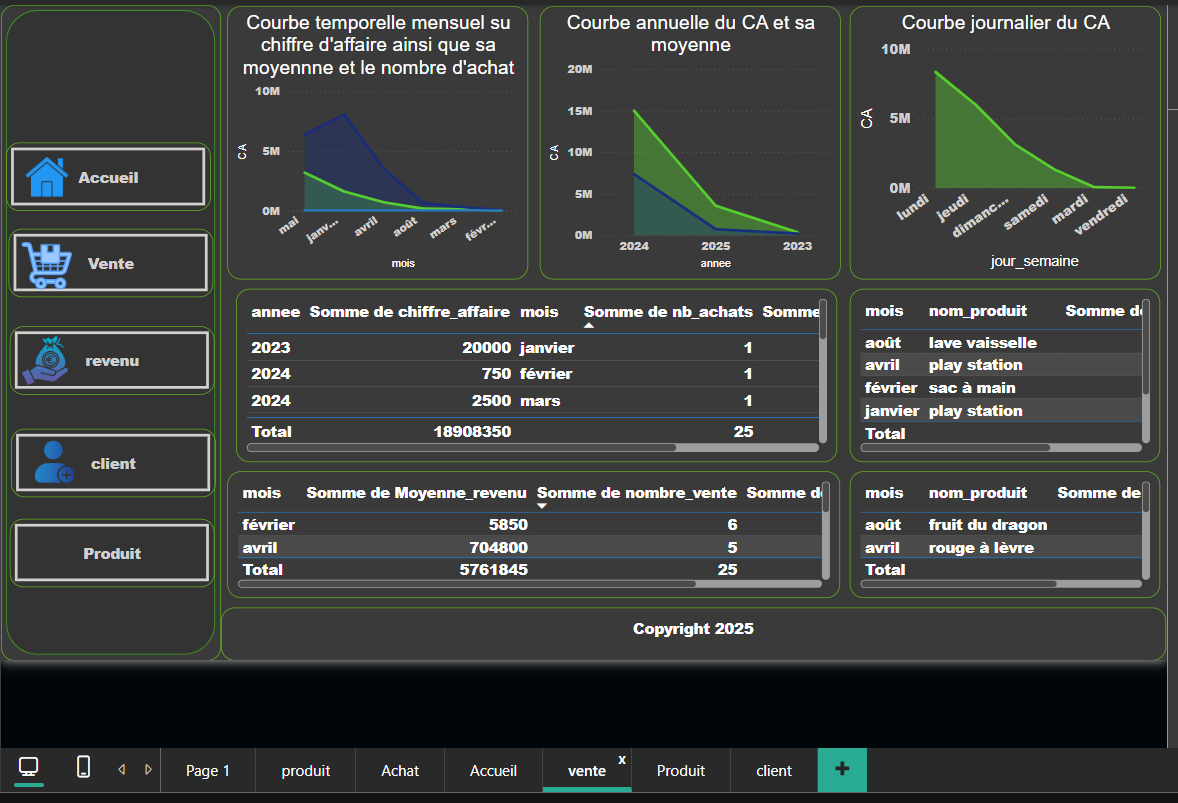

Layout of this report page (visuals, bound fields, positions):
{"tool":"powerbi","page":{"name":"vente","canvas":[1280,720],"ordinal":4},"visuals":[{"type":"shape","box":[0,0,241.7,720],"z":0},{"type":"actionButton","box":[10.1,352,225,75],"z":0,"group":"g1"},{"type":"group","id":"g1","title":"Groupe 1","box":[5.5,150.9,230.5,488.5],"z":1000},{"type":"actionButton","box":[5.5,150.9,225,75.5],"z":1000,"group":"g1"},{"type":"image","box":[0,160.5,100.2,56.3],"z":2000},{"type":"actionButton","box":[8,245,225,75],"z":2000,"group":"g1"},{"type":"actionButton","box":[11.1,464.6,225,75],"z":3000,"group":"g1"},{"type":"image","box":[15.1,469.3,85.1,64.5],"z":3000},{"type":"actionButton","box":[9.1,563.3,225,75],"z":4000,"group":"g1"},{"type":"image","box":[15.1,569.5,75.5,64.5],"z":4000},{"type":"image","box":[8.2,358.1,79.6,64.5],"z":5000},{"type":"textbox","box":[242.1,661.9,1037.4,58.1],"z":6000}]}

Visuals, with their boxes on the page's 1280x720 design canvas (x1, y1, x2, y2). These are canvas units, not pixel positions in the 1178x803 screenshot, which may show the page scaled, cropped or inside an application window:
shape: [x1=0, y1=0, x2=242, y2=720]
actionButton: [x1=10, y1=352, x2=235, y2=427]
"Groupe 1" group: [x1=6, y1=151, x2=236, y2=639]
actionButton: [x1=6, y1=151, x2=230, y2=226]
image: [x1=0, y1=160, x2=100, y2=217]
actionButton: [x1=8, y1=245, x2=233, y2=320]
actionButton: [x1=11, y1=465, x2=236, y2=540]
image: [x1=15, y1=469, x2=100, y2=534]
actionButton: [x1=9, y1=563, x2=234, y2=638]
image: [x1=15, y1=570, x2=91, y2=634]
image: [x1=8, y1=358, x2=88, y2=423]
textbox: [x1=242, y1=662, x2=1280, y2=720]
